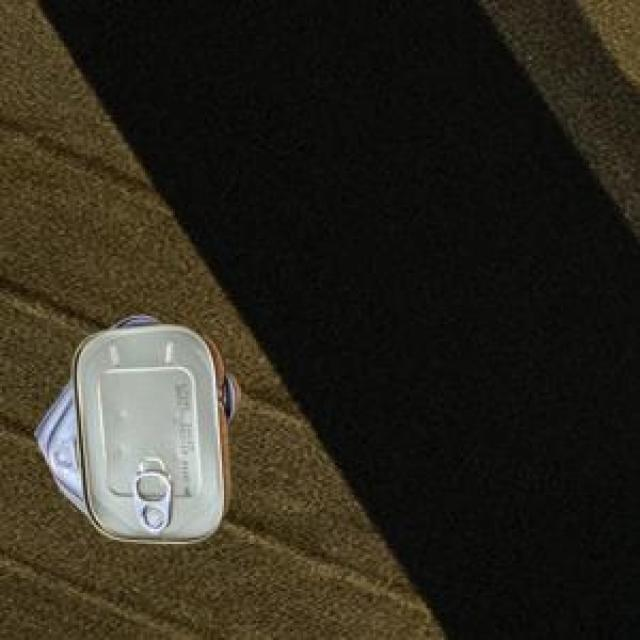Can: (31, 313, 236, 541)
